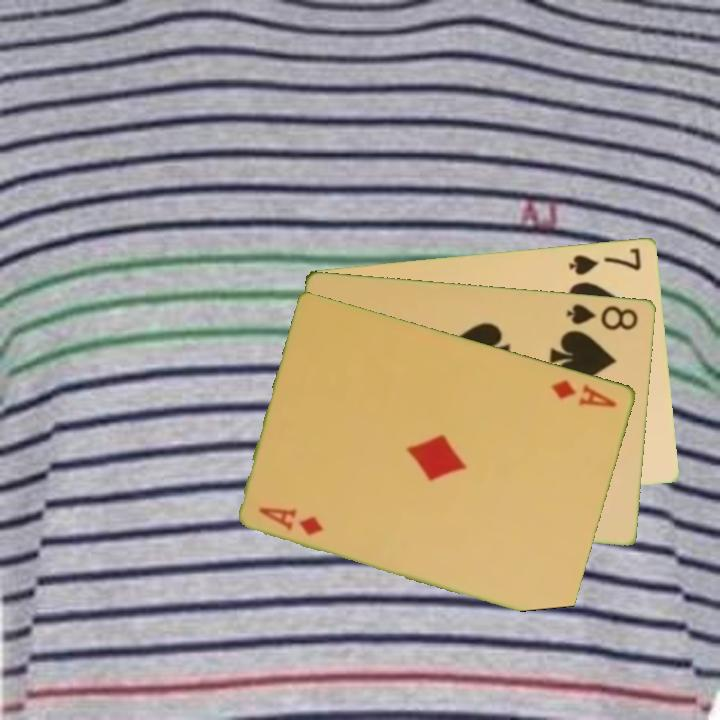7s: (565, 243, 645, 277)
8s: (564, 300, 641, 333)
Ad: (255, 503, 327, 538), (548, 376, 620, 410)
